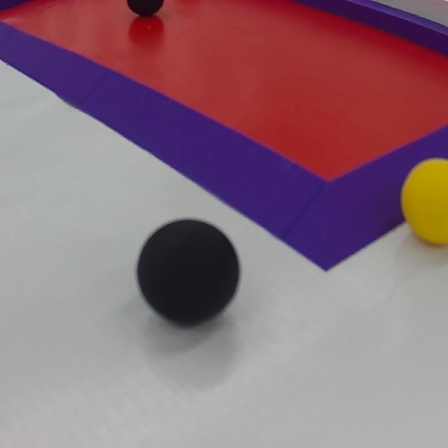black: (123, 213, 245, 334)
red_aim: (0, 0, 446, 274)
yellow: (397, 155, 448, 249)
